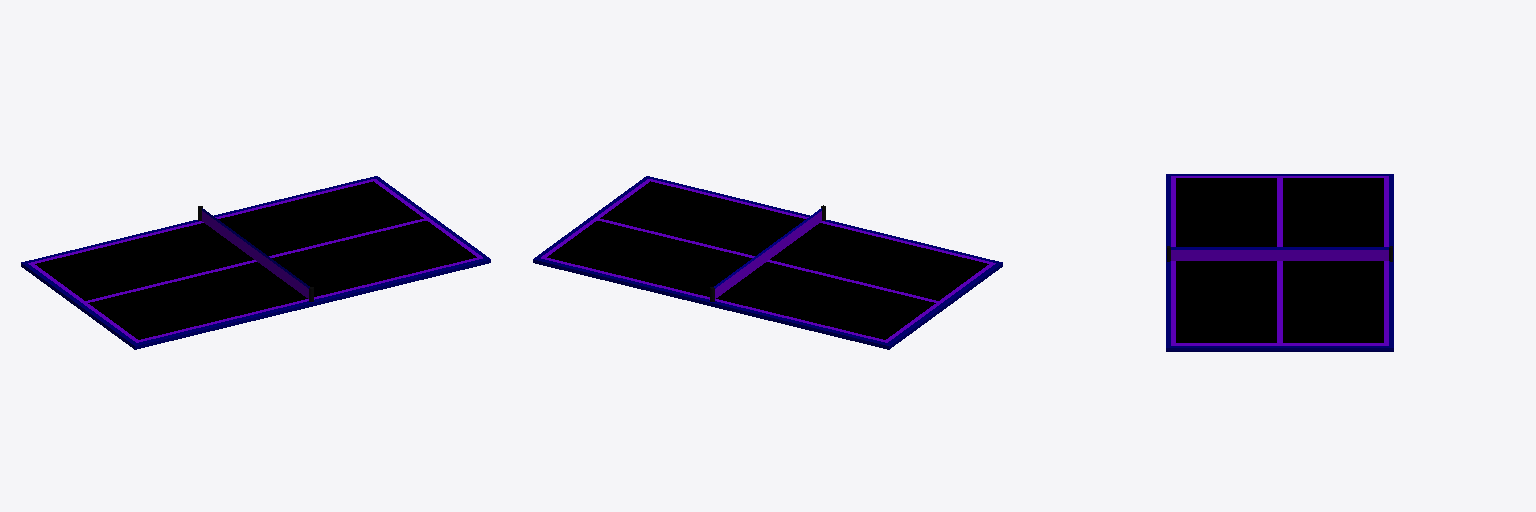
Rendered from table3.obj.
The picture shows the model from 3 angles: view 1: azimuth 30°, elevation 25°; view 2: azimuth 150°, elevation 25°; view 3: azimuth 270°, elevation 25°; orthographic projection.
Visible parts, largest first — view 1: Box001_Untitled.003, Plane001_Untitled.015; view 2: Box001_Untitled.003, Plane001_Untitled.015; view 3: Box001_Untitled.003, Plane001_Untitled.015.
Boxes of the visible parts, x1,y1,x2,y2 form: Box001_Untitled.003: [21, 176, 490, 349]; Plane001_Untitled.015: [202, 208, 309, 298]; Box001_Untitled.003: [533, 176, 1002, 349]; Plane001_Untitled.015: [714, 208, 821, 298]; Box001_Untitled.003: [1166, 174, 1393, 351]; Plane001_Untitled.015: [1171, 247, 1388, 260].
Size of the model in its own units: 2.74 by 0.13 by 1.52.